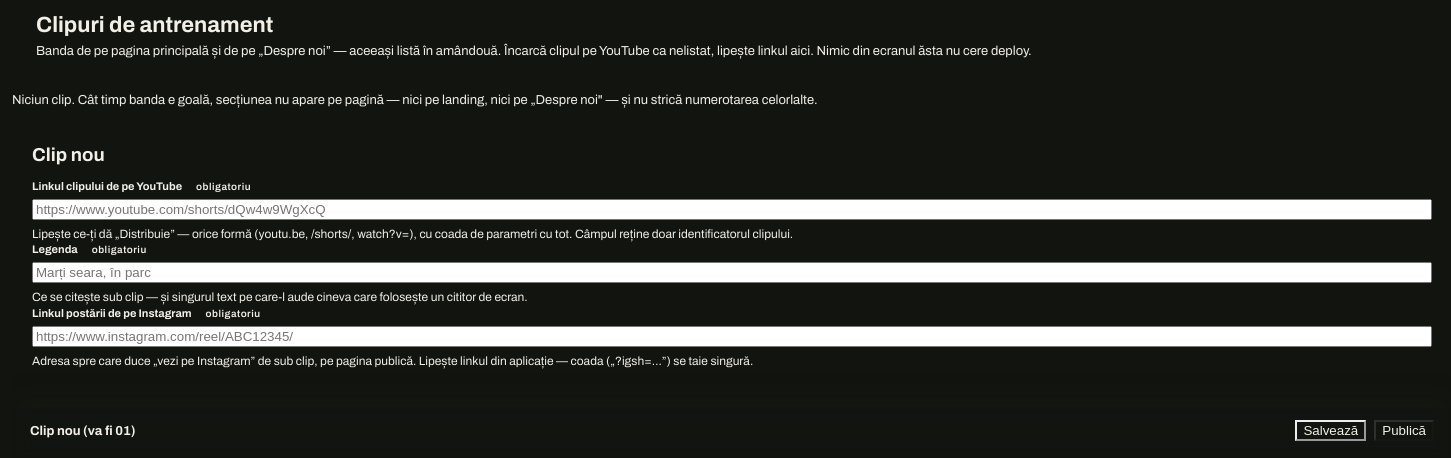
Test: linkul lipit din Instagram › „/reels/" pluralul din share-ul de browser se normalizează la „reel"
Expected: the text "Niciun clip" is shown, [12,93,818,107]
Step 1. Type "https://instagram.com/reels/XYZ98765/" into the field labelled "Linkul postării" → (732, 336), box [32,326,1432,347]
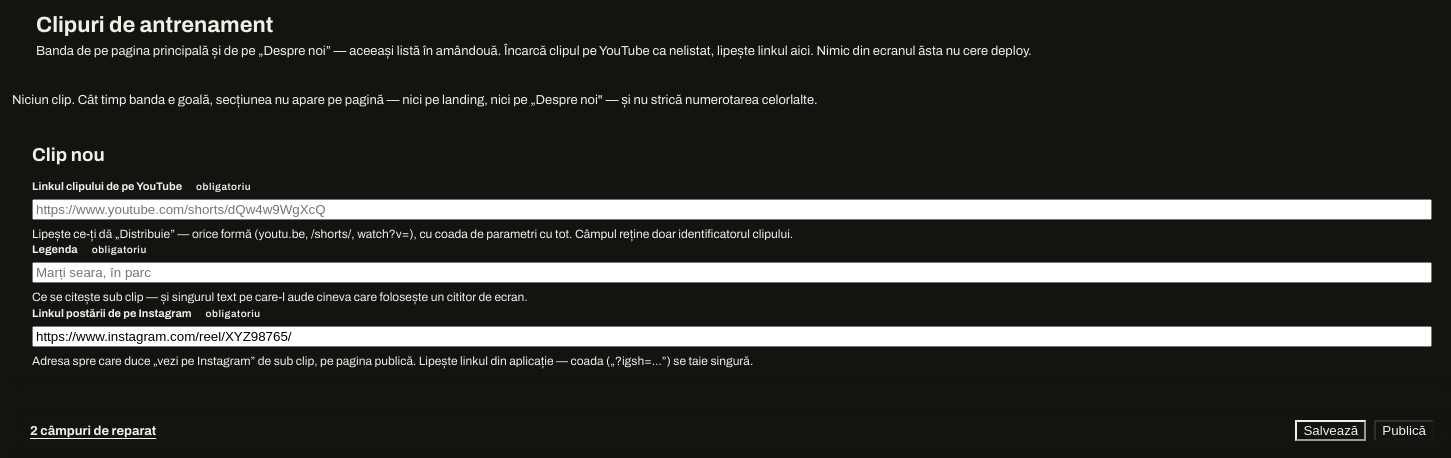
Now the field labelled "Linkul postării" holds "https://www.instagram.com/reel/XYZ98765/", box [32,326,1432,347]
